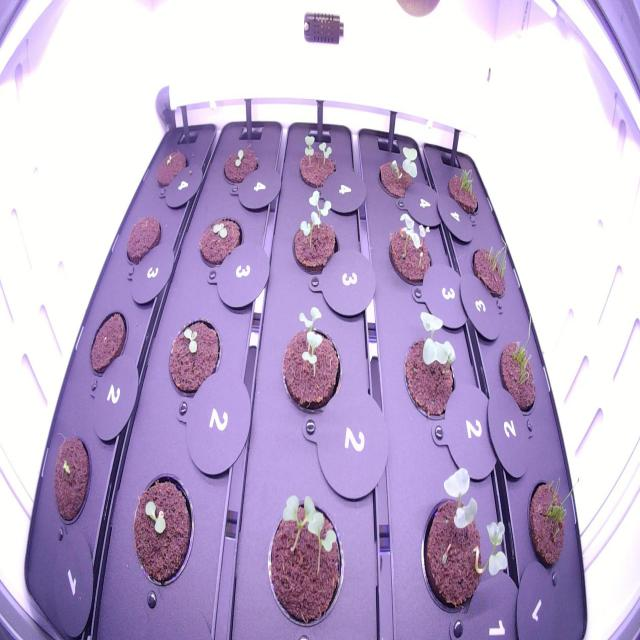germination: (405, 460, 513, 634), (259, 483, 348, 631), (127, 467, 199, 593), (271, 303, 346, 422), (395, 305, 463, 427), (524, 462, 586, 590), (493, 308, 543, 430), (284, 186, 342, 286), (162, 310, 225, 400), (378, 207, 438, 298), (46, 432, 98, 536), (372, 140, 425, 210), (292, 125, 341, 198), (192, 209, 247, 274), (468, 231, 512, 308), (442, 159, 482, 220), (151, 143, 192, 199), (218, 141, 264, 190)
pod: (84, 303, 132, 386), (120, 209, 165, 275)
